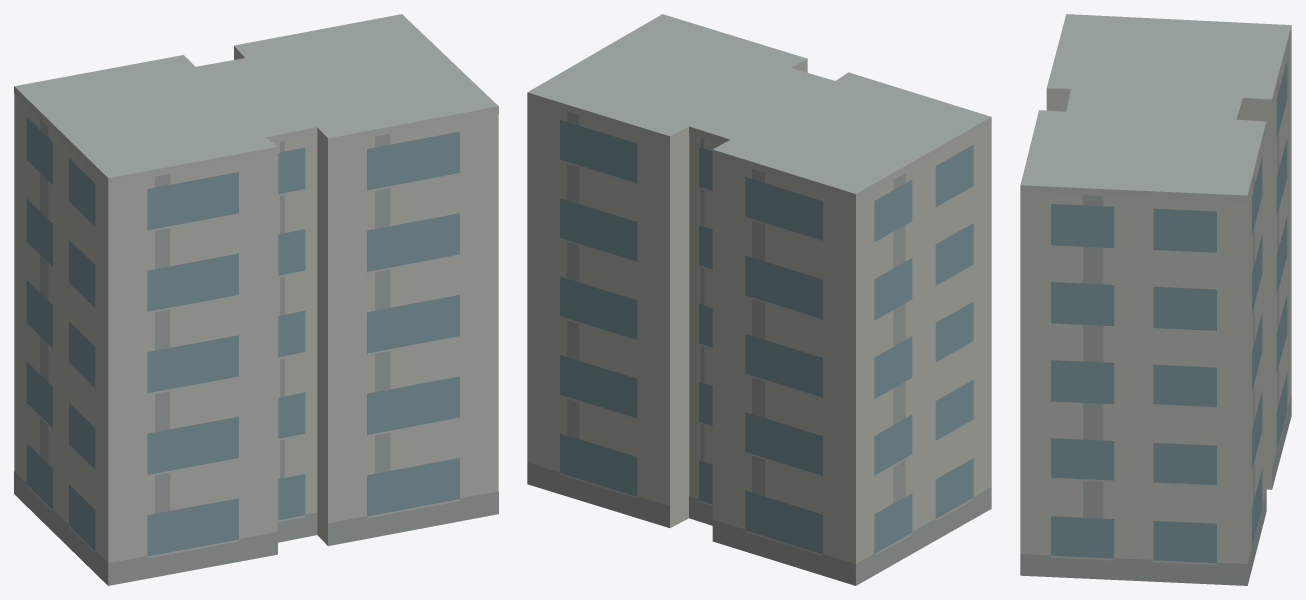
The model's file is survey-upis-32636270.glb.
3 renders of one model, left to right at view 1: azimuth 30°, elevation 25°; view 2: azimuth 150°, elevation 25°; view 3: azimuth 270°, elevation 25°, orthographic. The views are drawn at different scales.
Parts seen in each view (by area): view 1: survey-upis-32636270.tmp; view 2: survey-upis-32636270.tmp; view 3: survey-upis-32636270.tmp.
Boxes of the visible parts, x1,y1,x2,y2 form: survey-upis-32636270.tmp: (14, 14, 498, 585); survey-upis-32636270.tmp: (527, 14, 991, 585); survey-upis-32636270.tmp: (1020, 14, 1291, 585).
Bounding box in the file's own units: 13.52 × 13.55 × 8.54.
